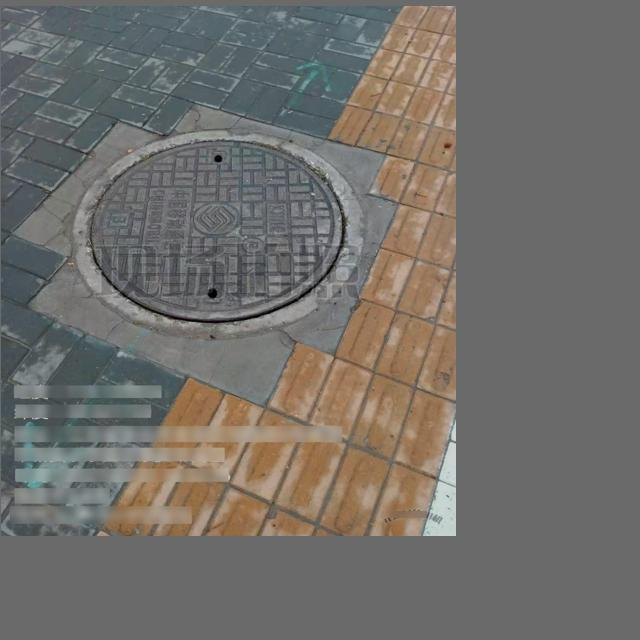good: (70, 129, 365, 339)
